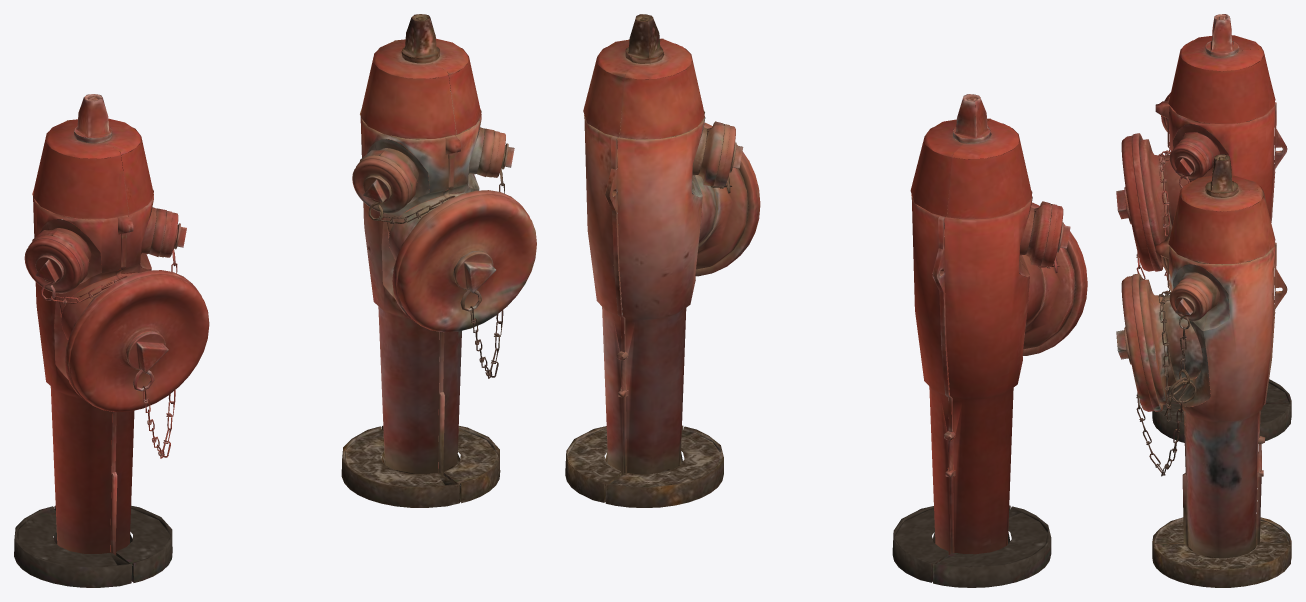
File: fire_hydrant.glb
3 views of the same model, side by side, from view 1: azimuth 30°, elevation 25°; view 2: azimuth 150°, elevation 25°; view 3: azimuth 270°, elevation 25° (orthographic). The views are drawn at different scales.
Parts seen in each view (by area): view 1: fire_hydrant, fire_hydrant_aged, fire_hydrant_cap_01, fire_hydrant_cap_01_aged, fire_hydrant_cap_03_aged, fire_hydrant_cap_03, fire_hydrant_chain, fire_hydrant_chain_aged, fire_hydrant_cap_02, fire_hydrant_cap_02_aged; view 2: fire_hydrant, fire_hydrant_aged, fire_hydrant_cap_01, fire_hydrant_cap_01_aged, fire_hydrant_cap_03, fire_hydrant_cap_03_aged; view 3: fire_hydrant_aged, fire_hydrant, fire_hydrant_cap_01_aged, fire_hydrant_cap_01, fire_hydrant_chain_aged, fire_hydrant_cap_02_aged, fire_hydrant_cap_02, fire_hydrant_chain.
Boxes of the visible parts, x1,y1,x2,y2 form: fire_hydrant: [14, 94, 172, 587]; fire_hydrant_aged: [341, 14, 500, 507]; fire_hydrant_cap_01: [64, 270, 209, 412]; fire_hydrant_cap_01_aged: [392, 190, 536, 332]; fire_hydrant_cap_03_aged: [352, 155, 411, 213]; fire_hydrant_cap_03: [24, 235, 84, 293]; fire_hydrant_chain: [39, 225, 178, 458]; fire_hydrant_chain_aged: [367, 145, 505, 378]; fire_hydrant_cap_02: [158, 211, 186, 257]; fire_hydrant_cap_02_aged: [486, 131, 514, 177]; fire_hydrant: [892, 94, 1075, 587]; fire_hydrant_aged: [565, 14, 748, 507]; fire_hydrant_cap_01: [1022, 202, 1087, 355]; fire_hydrant_cap_01_aged: [695, 122, 760, 276]; fire_hydrant_cap_03: [1041, 204, 1070, 266]; fire_hydrant_cap_03_aged: [713, 124, 743, 186]; fire_hydrant_aged: [1139, 154, 1291, 587]; fire_hydrant: [1139, 14, 1291, 442]; fire_hydrant_cap_01_aged: [1116, 273, 1163, 411]; fire_hydrant_cap_01: [1116, 133, 1163, 271]; fire_hydrant_chain_aged: [1136, 289, 1196, 476]; fire_hydrant_cap_02_aged: [1169, 282, 1209, 321]; fire_hydrant_cap_02: [1169, 142, 1209, 180]; fire_hydrant_chain: [1136, 149, 1195, 281].
Bounding box in the file's own units: 0.8746 × 0.8008 × 0.3172.
2 materials, 2 textured.
